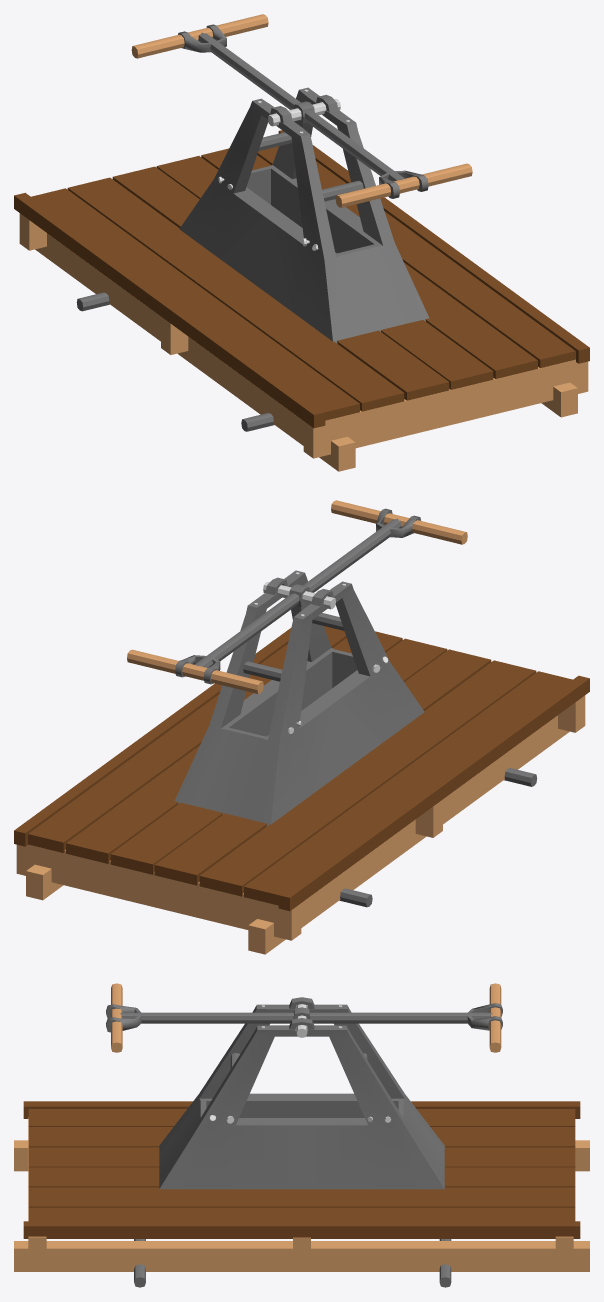
Rendered from Carrinho de mao Ferroviario sem roda.fbx.
3 renders of one model, top to bottom at view 1: azimuth 30°, elevation 25°; view 2: azimuth 150°, elevation 25°; view 3: azimuth 270°, elevation 25°, orthographic. The views are drawn at different scales.
Visible parts, largest first — view 1: Cube.006; view 2: Cube.006; view 3: Cube.006.
Boxes of the visible parts, box(x1,y1,x2,y2) form: Cube.006: box(14, 14, 589, 471); Cube.006: box(14, 500, 589, 954); Cube.006: box(14, 983, 589, 1287).
Size of the model in its own units: 186 by 137 by 339.
